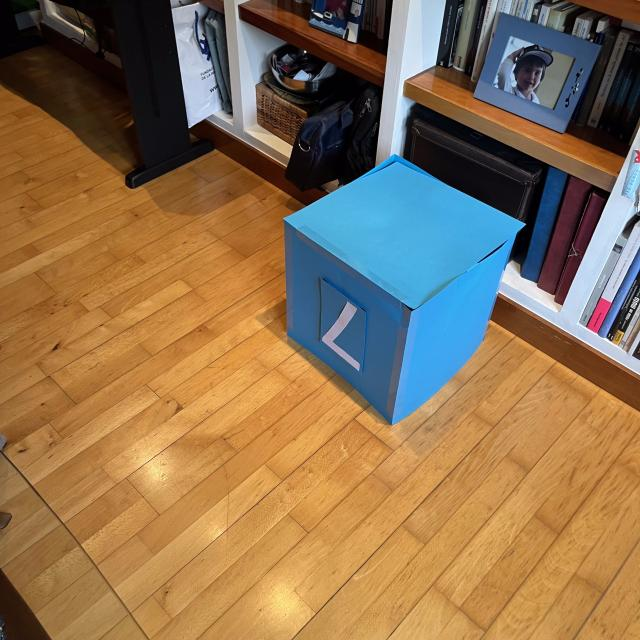box: (278, 152, 527, 426)
